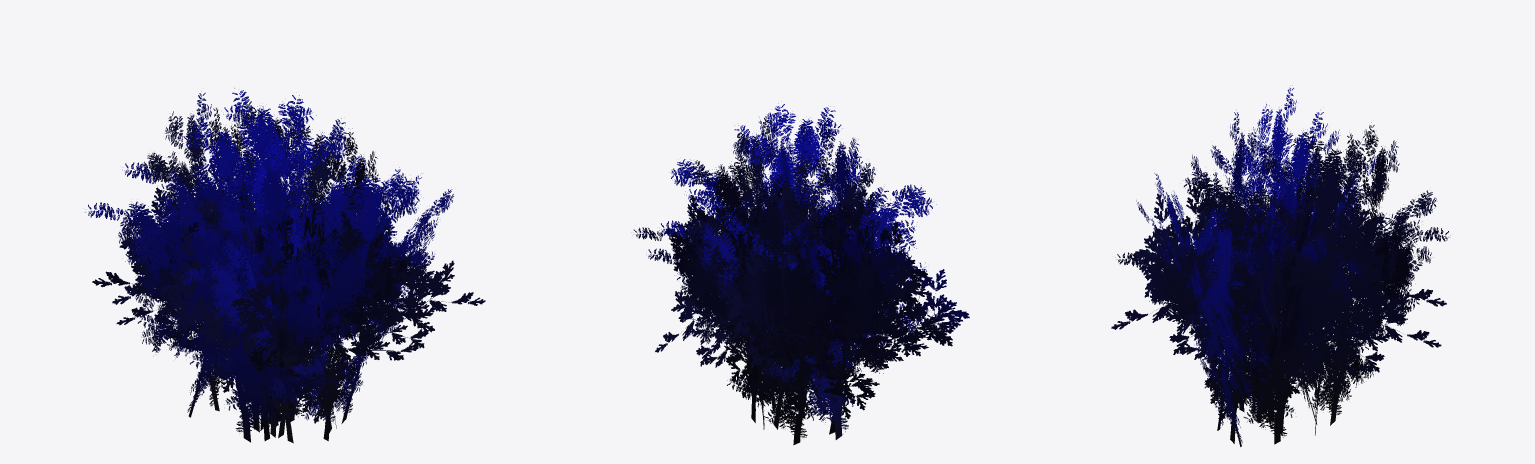
The model's file is SM_Foliage_ShrubTallA_02.fbx.
3 renders of one model, left to right at view 1: azimuth 30°, elevation 25°; view 2: azimuth 150°, elevation 25°; view 3: azimuth 270°, elevation 25°, orthographic. The views are drawn at different scales.
Visible parts, largest first — view 1: SM_Foliage_ShrubTallA_02; view 2: SM_Foliage_ShrubTallA_02; view 3: SM_Foliage_ShrubTallA_02.
Part boxes in pixels (x1,y1,x2,y2): SM_Foliage_ShrubTallA_02: (85,88,485,443); SM_Foliage_ShrubTallA_02: (633,103,969,445); SM_Foliage_ShrubTallA_02: (1111,87,1450,446).
Bounding box in the file's own units: 368 × 323 × 261.
